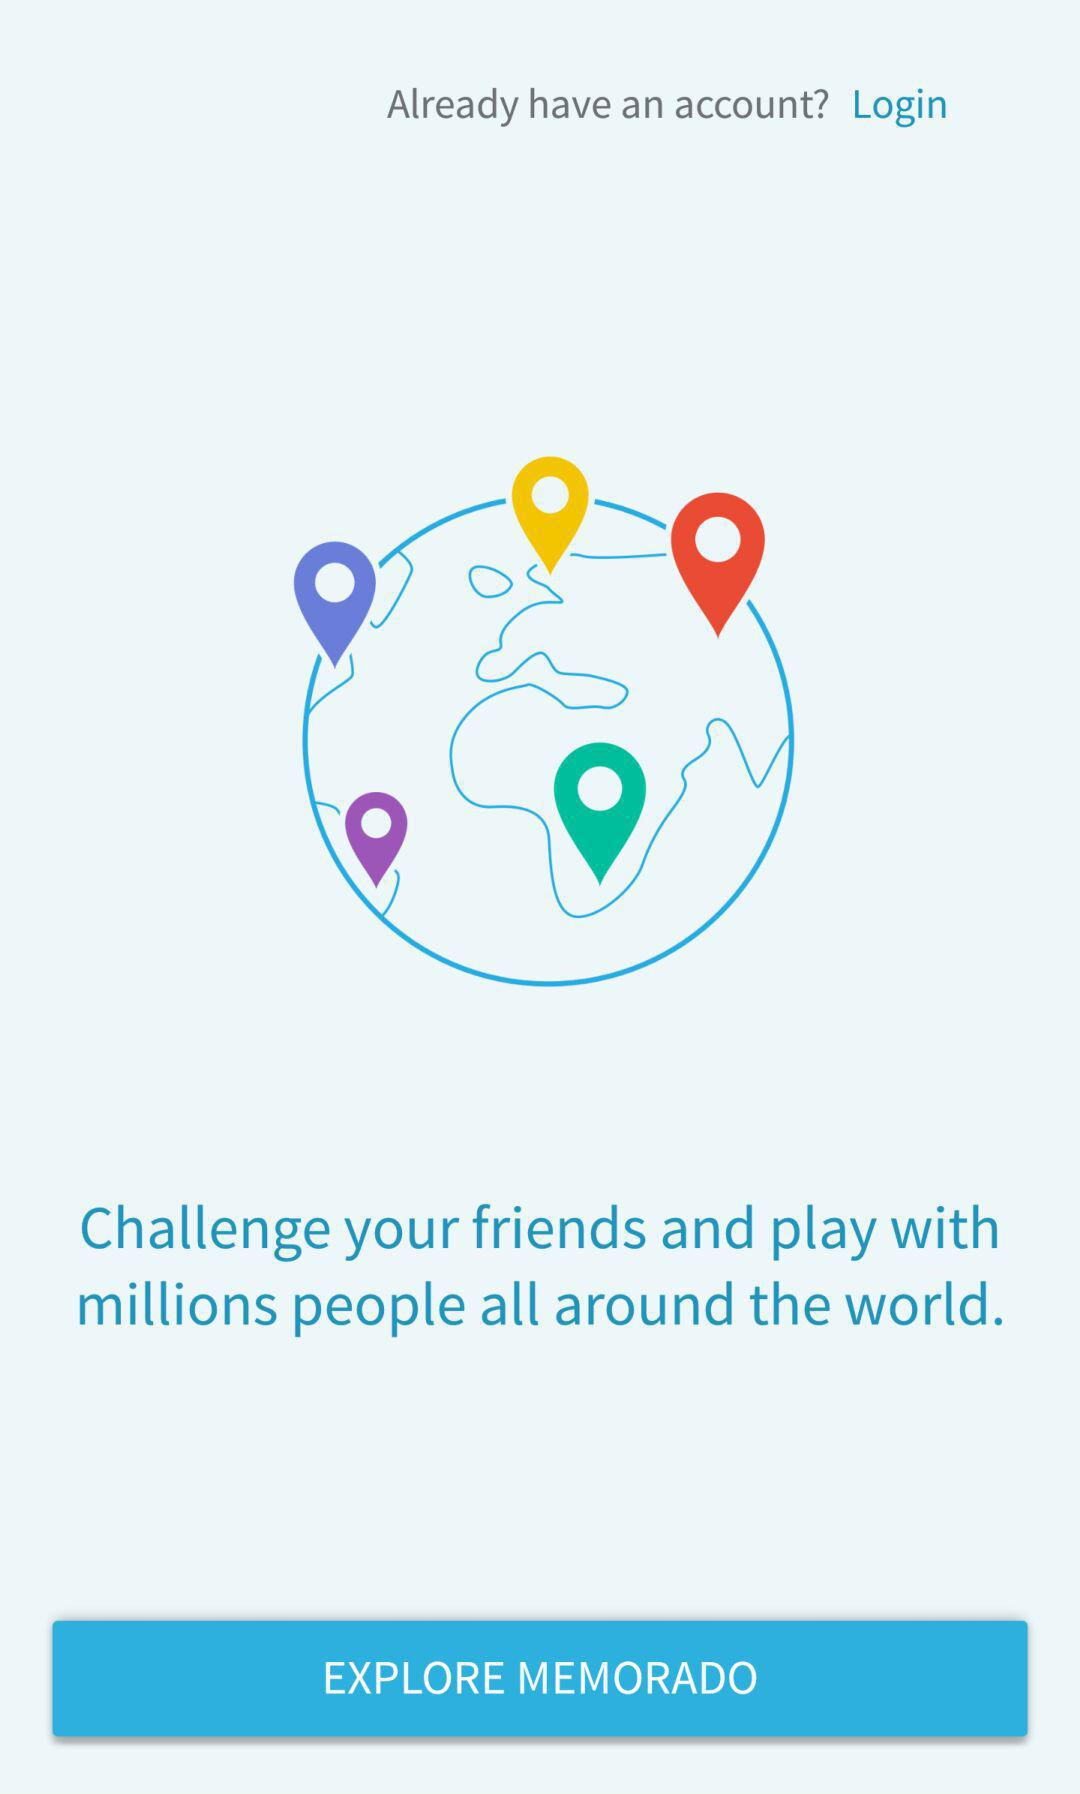Image: (293, 455, 796, 988)
Text: (79, 1203, 1003, 1340), (386, 87, 829, 129), (855, 88, 947, 129)
TextButton: (53, 1620, 1027, 1738)
